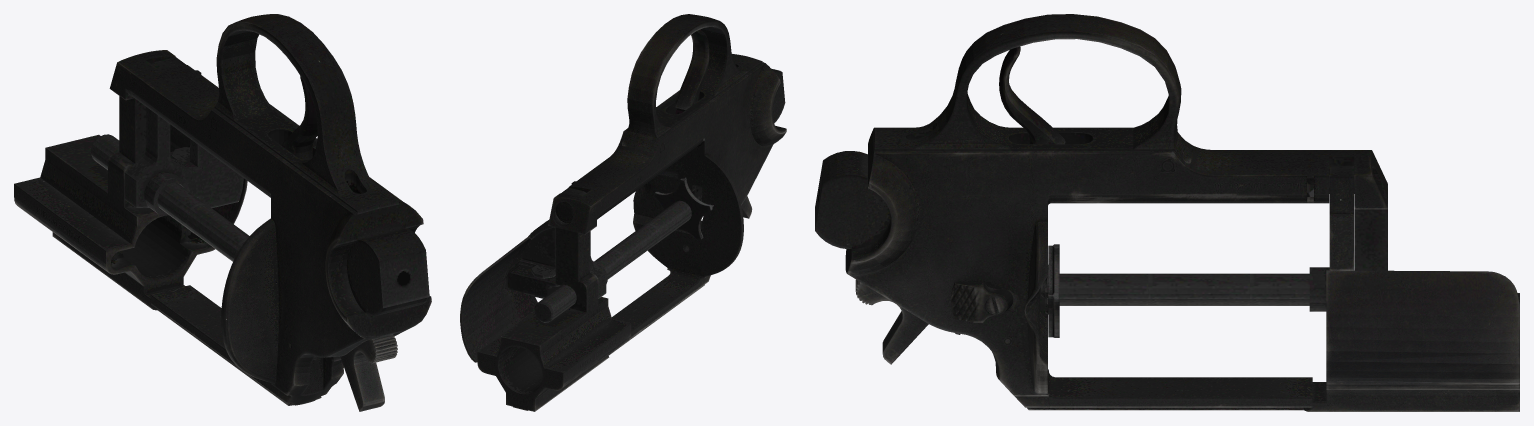
The picture shows the model from 3 angles, left to right: view 1: azimuth 30°, elevation 25°; view 2: azimuth 150°, elevation 25°; view 3: azimuth 270°, elevation 25°; orthographic projection. The views are drawn at different scales.
Parts seen in each view (by area): view 1: TW_60db29ce99594040e04c4a27_PZ_Import; view 2: TW_60db29ce99594040e04c4a27_PZ_Import; view 3: TW_60db29ce99594040e04c4a27_PZ_Import.
Boxes of the visible parts, bbox=[...] form: TW_60db29ce99594040e04c4a27_PZ_Import: bbox=[14, 14, 431, 411]; TW_60db29ce99594040e04c4a27_PZ_Import: bbox=[460, 14, 786, 411]; TW_60db29ce99594040e04c4a27_PZ_Import: bbox=[815, 14, 1519, 411].
Bounding box in the file's own units: 0.0331 × 0.1203 × 0.0718.
Materials: 1 (1 with a texture image).
